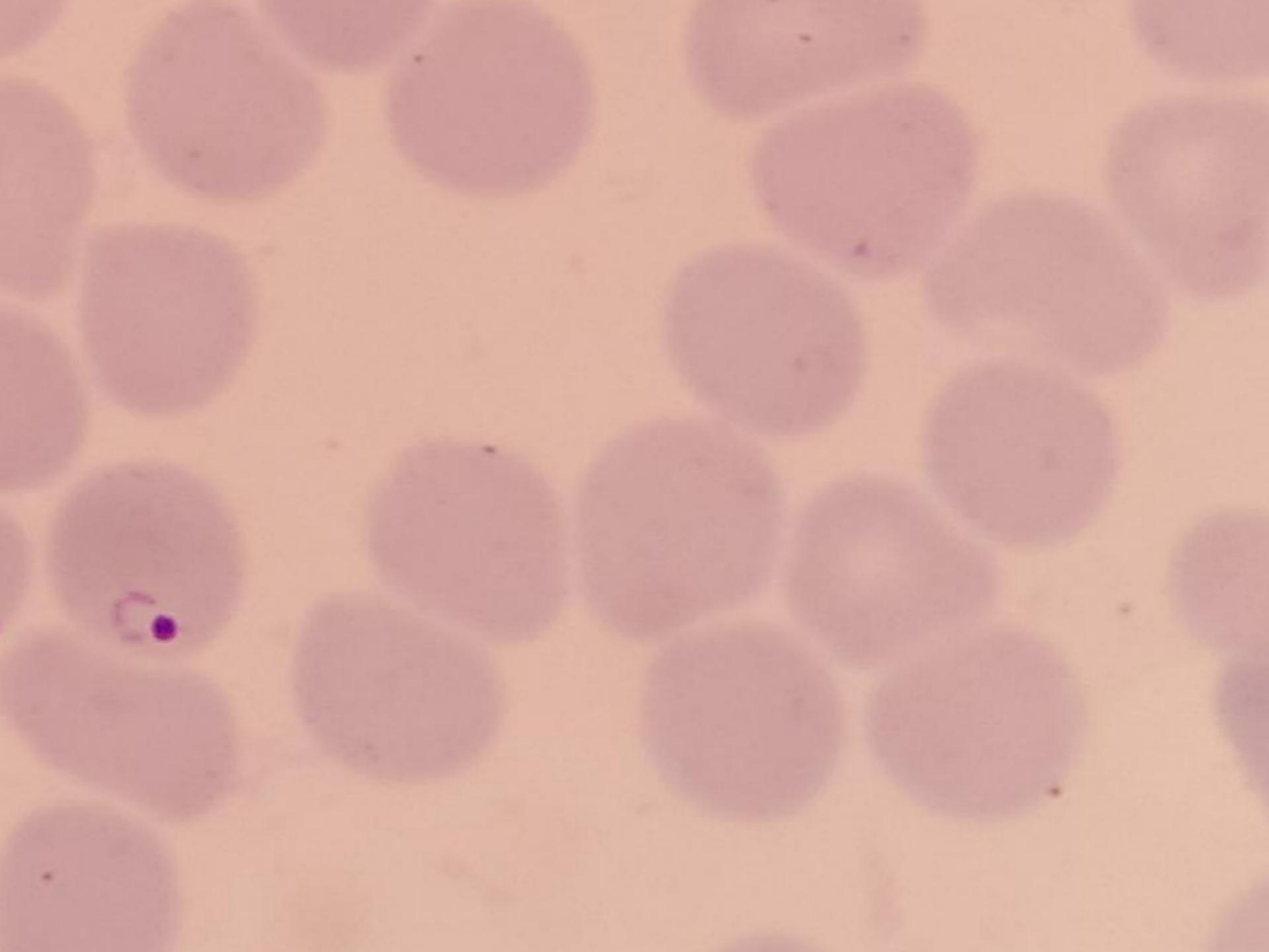Infected: (45, 459, 249, 664)
Uninfected: (927, 182, 1166, 369), (573, 425, 787, 632), (752, 88, 985, 275), (0, 646, 245, 818), (861, 631, 1085, 814), (364, 443, 566, 645), (791, 474, 999, 670), (384, 2, 595, 192), (641, 623, 847, 816), (287, 595, 505, 777), (126, 0, 316, 200), (71, 223, 260, 421), (669, 246, 871, 431), (925, 370, 1122, 549), (1102, 102, 1269, 306), (681, 0, 927, 118), (0, 801, 181, 952)
